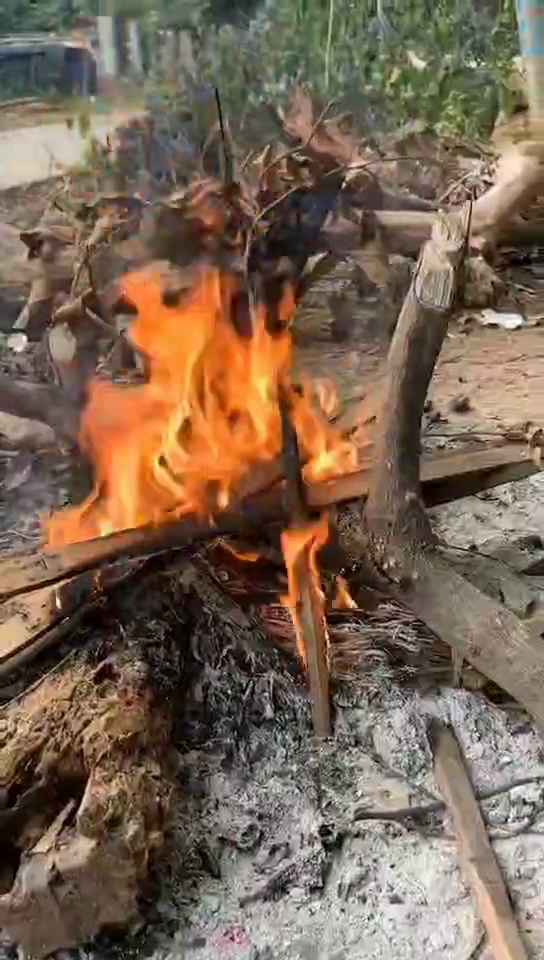fire: (84, 272, 343, 531)
